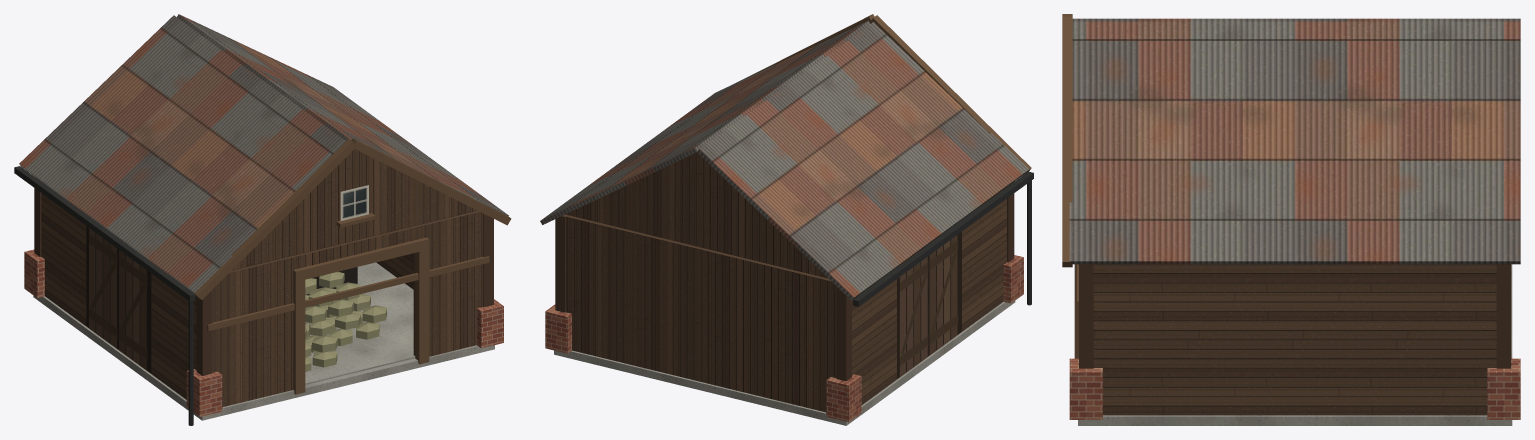
The model's file is quartermaster.glb.
The picture shows the model from 3 angles, left to right: view 1: azimuth 30°, elevation 25°; view 2: azimuth 150°, elevation 25°; view 3: azimuth 270°, elevation 25°; orthographic projection. The views are drawn at different scales.
Visible parts, largest first — view 1: toit_pan_arriere, toit_pignon_b, pignon_g, mur_long (×2), toit_pan_avant, pignon_d, porte, sol, socle, rive (×2), pile_brique (×3), chambranle (×2) (+7 smaller); view 2: toit_pan_arriere, mur_fond, toit_pignon_a, toit_pan_avant, mur_long, porte, socle, pile_brique (×3), poteau_angle (×3), gouttiere, rive, descente; view 3: toit_pan_avant, mur_long, socle, pile_brique (×2), poteau_angle (×2), rive, toit_pan_arriere.
Part boxes in pixels (box(x1,y1,x2,y2)): toit_pan_arriere: box(19, 15, 345, 293); toit_pignon_b: box(232, 149, 476, 270); pignon_g: box(212, 254, 302, 407); mur_long (×2): box(41, 183, 413, 399); toit_pan_avant: box(177, 14, 508, 216); pignon_d: box(413, 210, 483, 356); porte: box(86, 226, 151, 372); sol: box(305, 262, 415, 384); socle: box(33, 295, 494, 420); rive (×2): box(194, 138, 511, 299); pile_brique (×3): box(24, 249, 503, 416); chambranle (×2): box(293, 244, 429, 394); toit_pan_arriere: box(697, 22, 1028, 300); mur_fond: box(563, 214, 836, 412); toit_pignon_a: box(565, 152, 827, 278); toit_pan_avant: box(540, 21, 870, 224); mur_long: box(852, 187, 1006, 404); porte: box(897, 232, 961, 378); socle: box(554, 301, 1015, 425); pile_brique (×3): box(545, 255, 1023, 422); poteau_angle (×3): box(555, 183, 1014, 381); gouttiere: box(853, 171, 1033, 306); rive: box(870, 15, 1031, 173); descente: box(1027, 180, 1031, 305); toit_pan_avant: box(1069, 21, 1520, 264); mur_long: box(1093, 264, 1496, 415); socle: box(1078, 264, 1512, 425); pile_brique (×2): box(1069, 358, 1520, 419); poteau_angle (×2): box(1079, 264, 1511, 368); rive: box(1062, 16, 1072, 267); toit_pan_arriere: box(1072, 18, 1520, 21).
Bounding box in the file's own units: 2.27 × 1.68 × 2.2.
12 materials, 7 textured.
